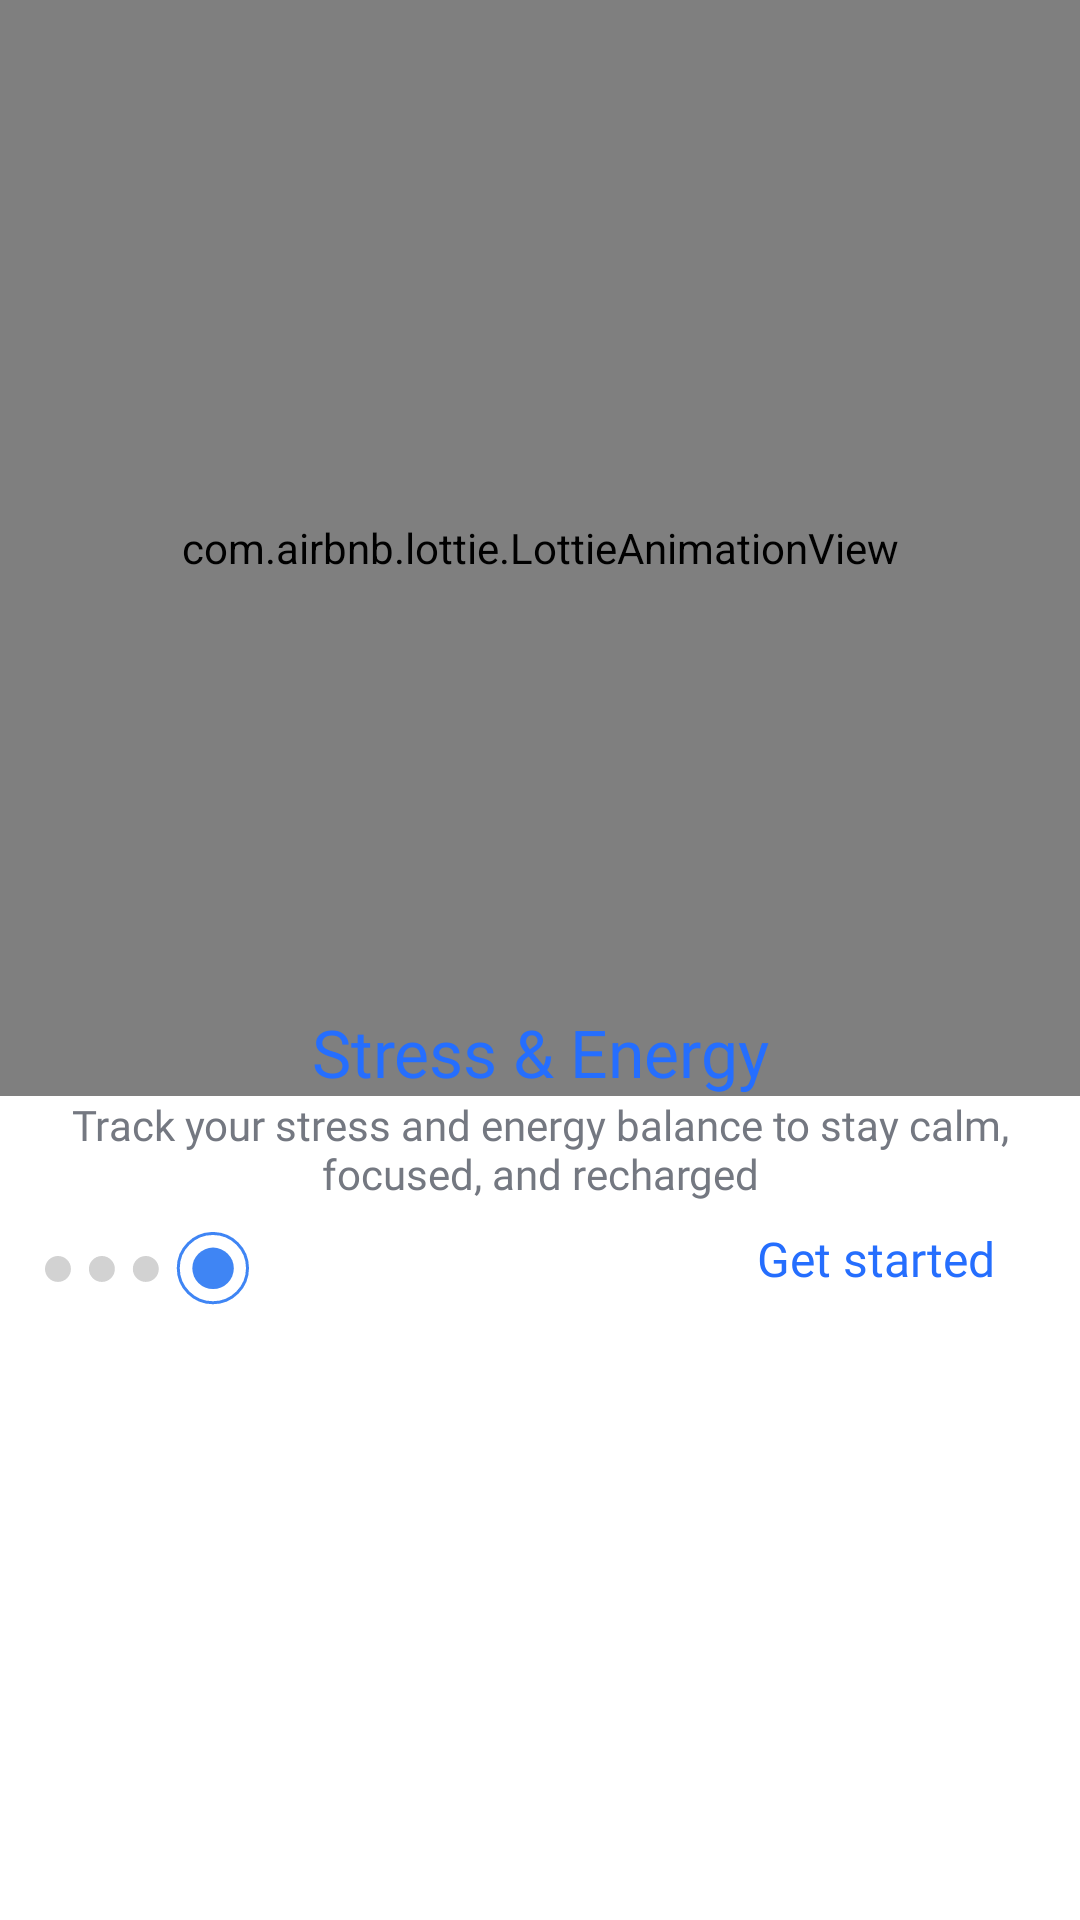

Locate icon controls on the screen. Image size 1080px×1920px, boxes as (x1, y1, x2, y2).
ob four: (45, 1232, 249, 1305)
